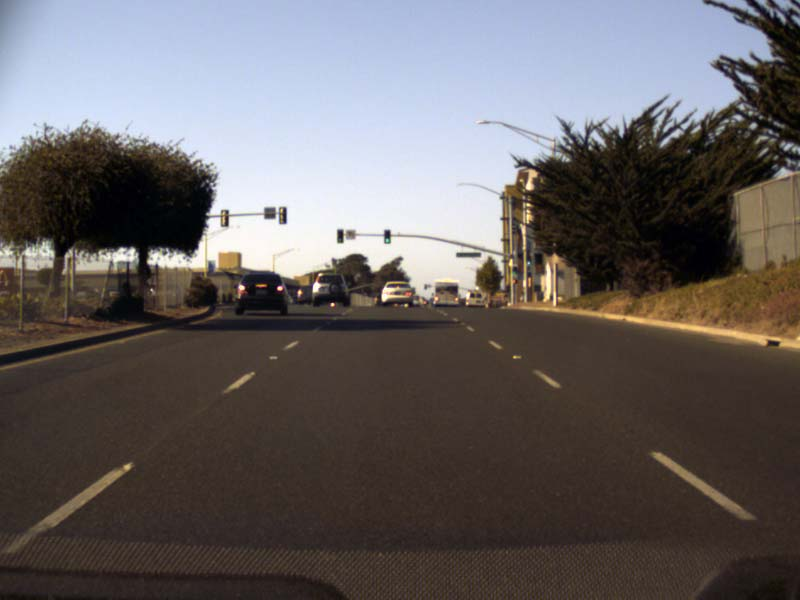Green: (384, 229, 390, 242), (526, 256, 530, 264), (513, 267, 517, 274)
Red: (337, 229, 342, 241)
